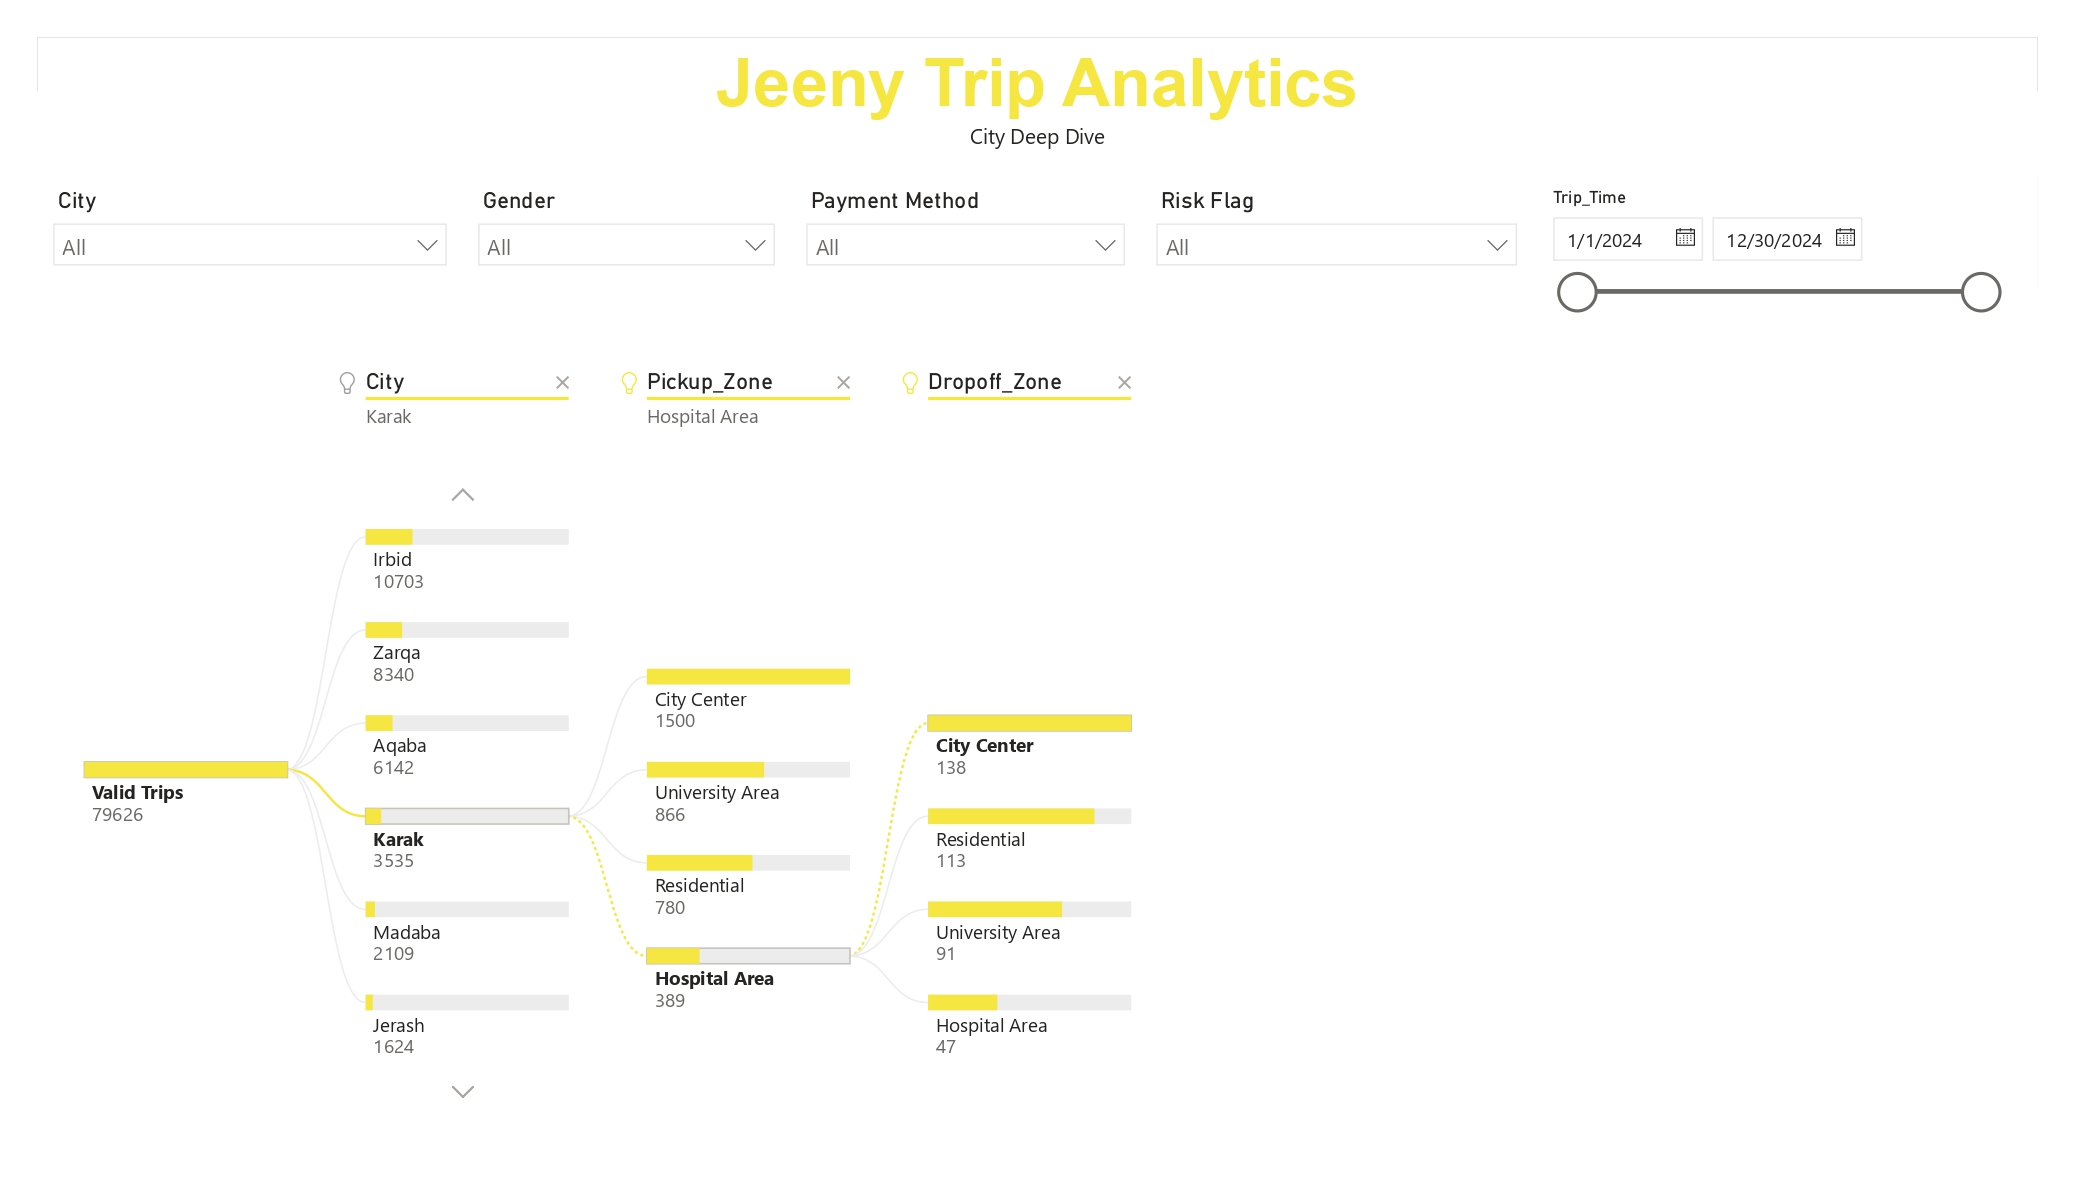

Layout of this report page (visuals, bound fields, positions):
{"tool":"powerbi","page":{"name":"City Deep Dive","canvas":[1280,720],"ordinal":2},"visuals":[{"type":"textbox","box":[0,0,1280,91],"z":0},{"type":"slicer","fields":{"Values":["final_realistic_trip_dataset.City"]},"box":[0,90.7,272.1,103.9],"z":1000},{"type":"slicer","fields":{"Values":["final_realistic_trip_dataset.Gender"]},"box":[272.1,90.7,209.9,103.9],"z":2000},{"type":"slicer","fields":{"Values":["final_realistic_trip_dataset.payment method"]},"box":[482,90.7,224.4,103.9],"z":3000},{"type":"slicer","fields":{"Values":["final_realistic_trip_dataset.overall_risk_flag"]},"box":[706.4,90.7,250.9,103.9],"z":4000},{"type":"slicer","fields":{"Values":["final_realistic_trip_dataset.Trip_Time"]},"box":[957.4,90.7,307.2,103.9],"z":5000},{"type":"decompositionTreeVisual","fields":{"Analyze":["final_realistic_trip_dataset.Valid Trips"],"ExplainBy":["final_realistic_trip_dataset.City","final_realistic_trip_dataset.Pickup_Zone","final_realistic_trip_dataset.Dropoff_Zone"]},"box":[0,194.6,1279.8,525.7],"z":6000}]}

Visuals, with their boxes on the page's 1280x720 design canvas (x1, y1, x2, y2). These are canvas units, not pixel positions in the 2075x1200 screenshot, which may show the page scaled, cropped or inside an application window:
textbox: (left=0, top=0, right=1280, bottom=91)
slicer - final_realistic_trip_dataset.City: (left=0, top=91, right=272, bottom=195)
slicer - final_realistic_trip_dataset.Gender: (left=272, top=91, right=482, bottom=195)
slicer - final_realistic_trip_dataset.payment method: (left=482, top=91, right=706, bottom=195)
slicer - final_realistic_trip_dataset.overall_risk_flag: (left=706, top=91, right=957, bottom=195)
slicer - final_realistic_trip_dataset.Trip_Time: (left=957, top=91, right=1265, bottom=195)
decompositionTreeVisual - final_realistic_trip_dataset.Valid Trips x final_realistic_trip_dataset.City: (left=0, top=195, right=1280, bottom=720)
